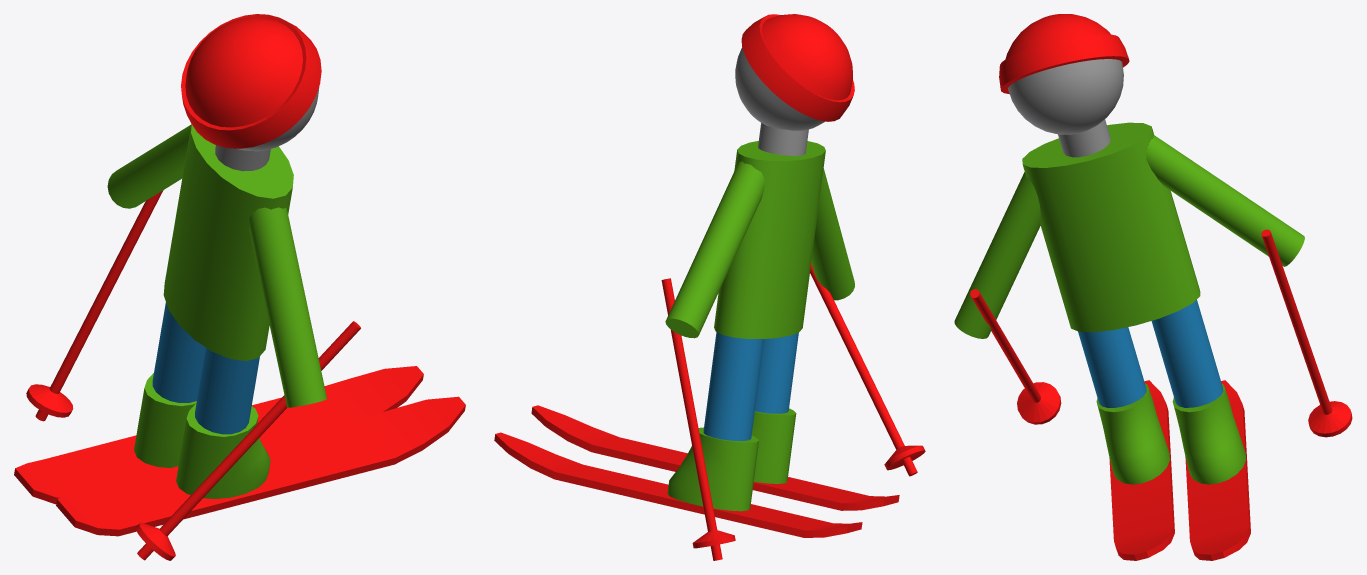
File: _ki_right.fbx
3 renders of one model, left to right at view 1: azimuth 30°, elevation 25°; view 2: azimuth 150°, elevation 25°; view 3: azimuth 270°, elevation 25°, orthographic. The views are drawn at different scales.
Parts seen in each view (by area): view 1: Sphere001; view 2: Sphere001; view 3: Sphere001.
Part boxes in pixels (left/top/right/bottom): Sphere001: left=14, top=14, right=465, bottom=560; Sphere001: left=494, top=14, right=925, bottom=560; Sphere001: left=954, top=14, right=1352, bottom=560.
Size of the model in its own units: 68.95 by 82.7 by 65.6.
